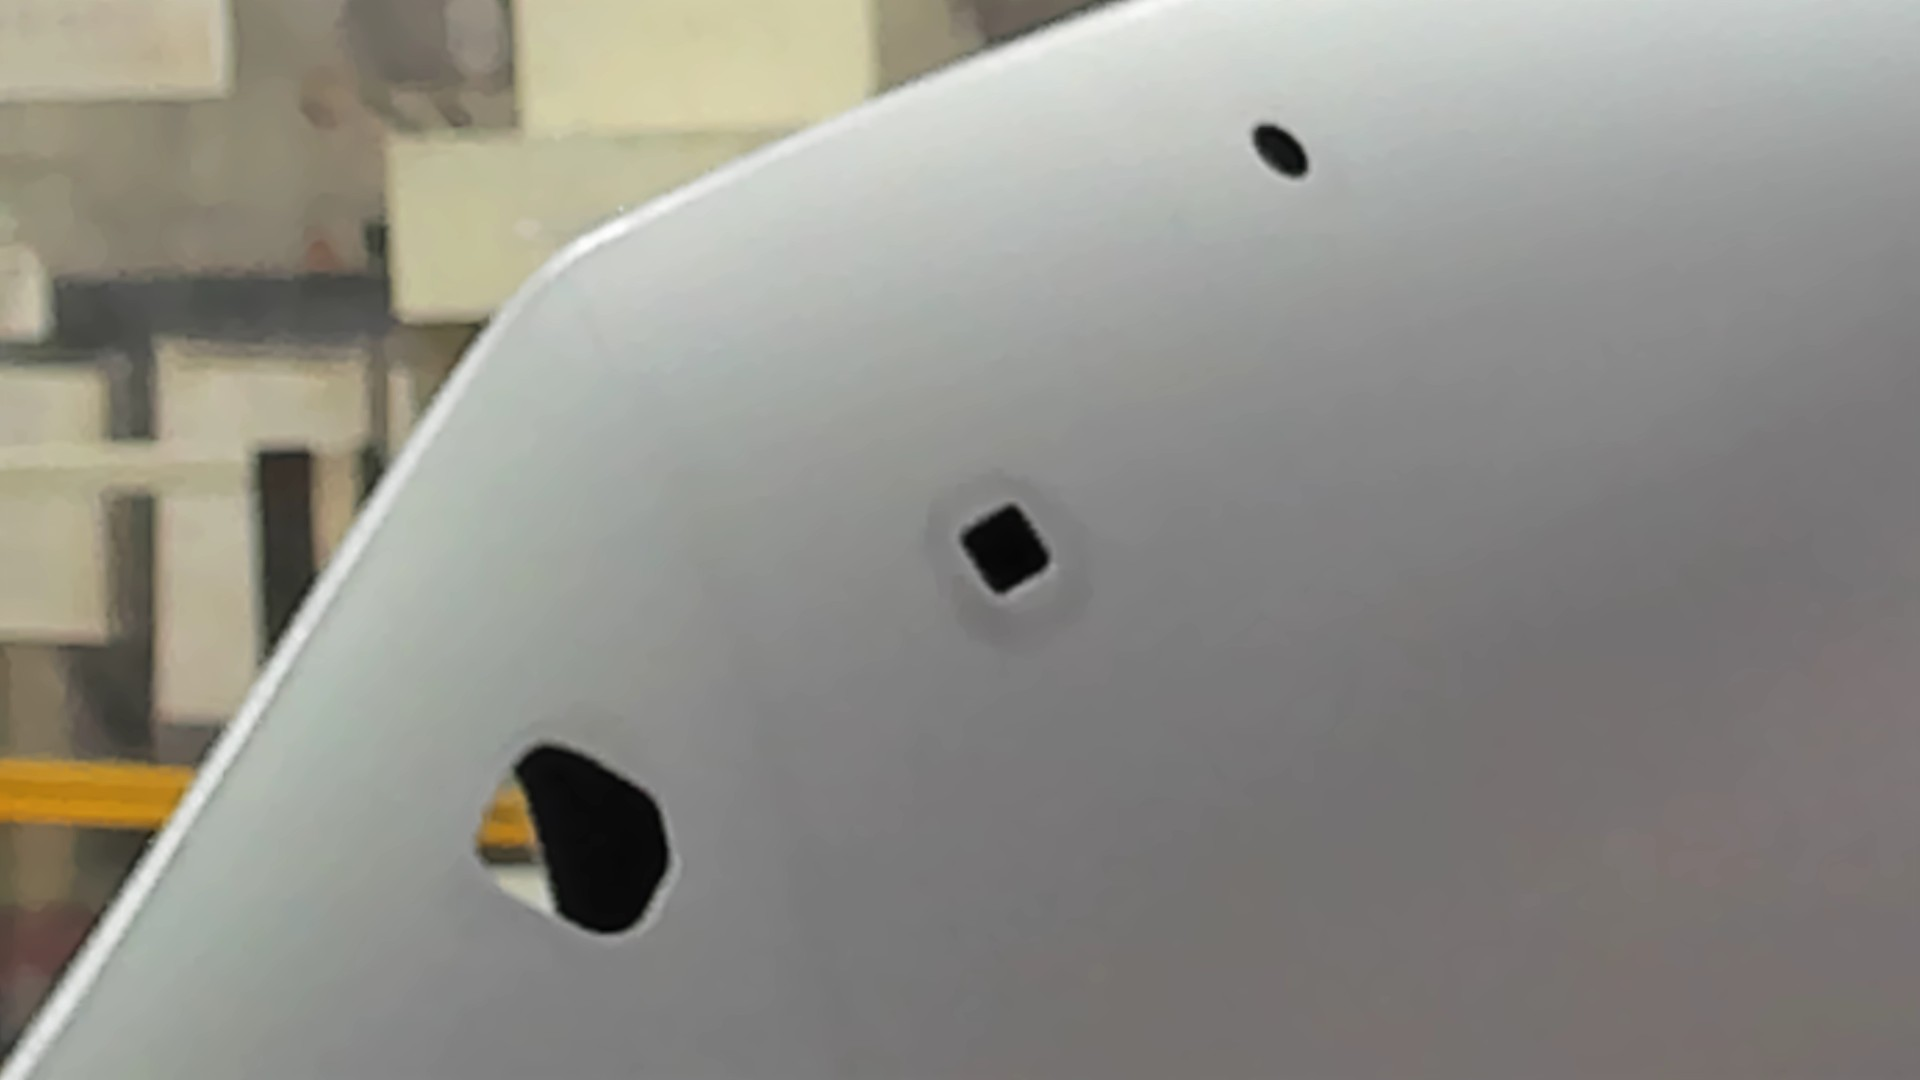capo: (1062, 202, 1920, 1080)
chico: (1247, 117, 1313, 185)
grande: (468, 733, 682, 947)
mediano: (951, 496, 1059, 603)
